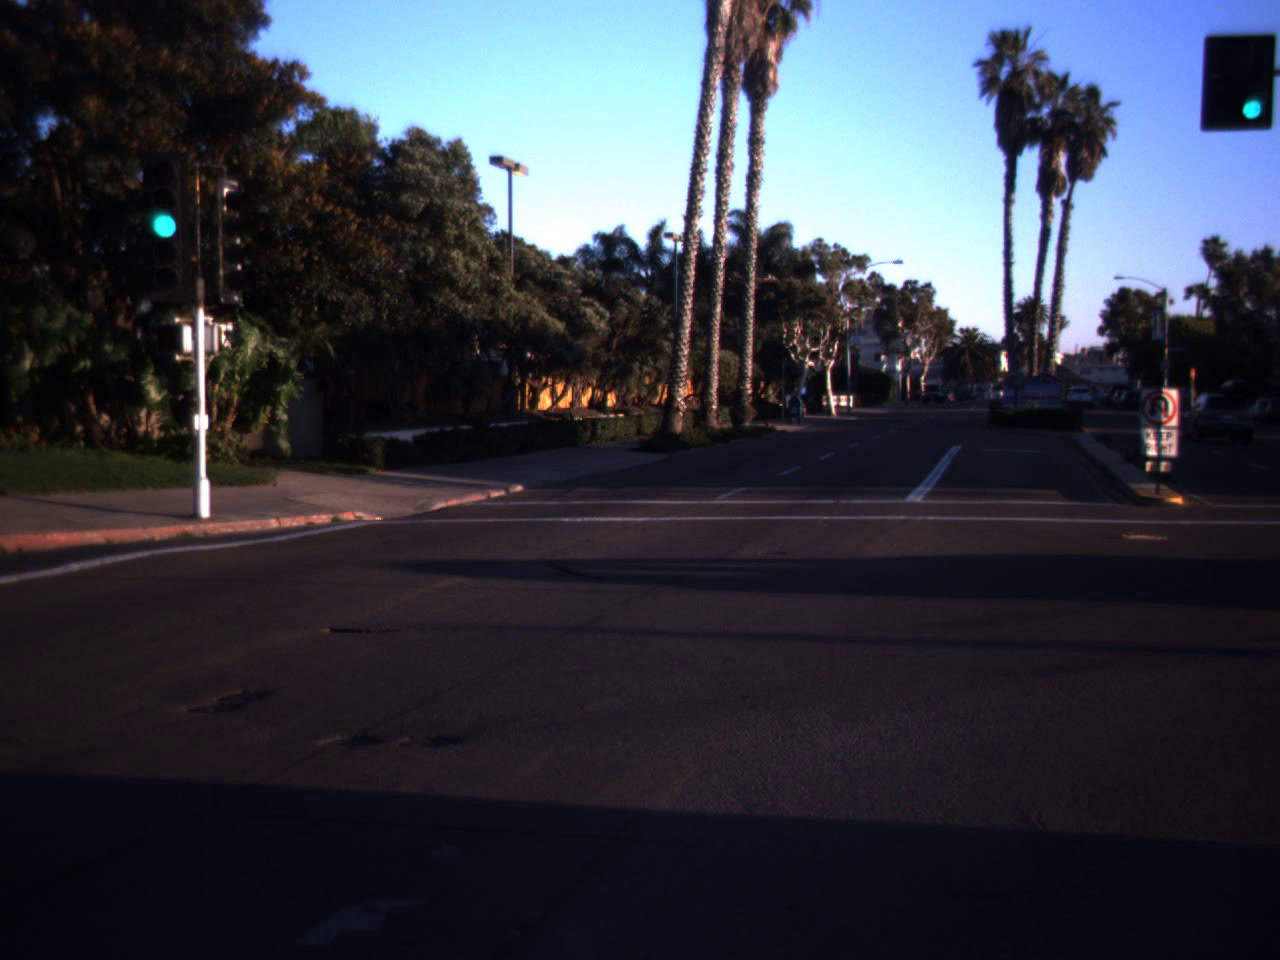go: (135, 146, 195, 246), (1228, 46, 1276, 126)
